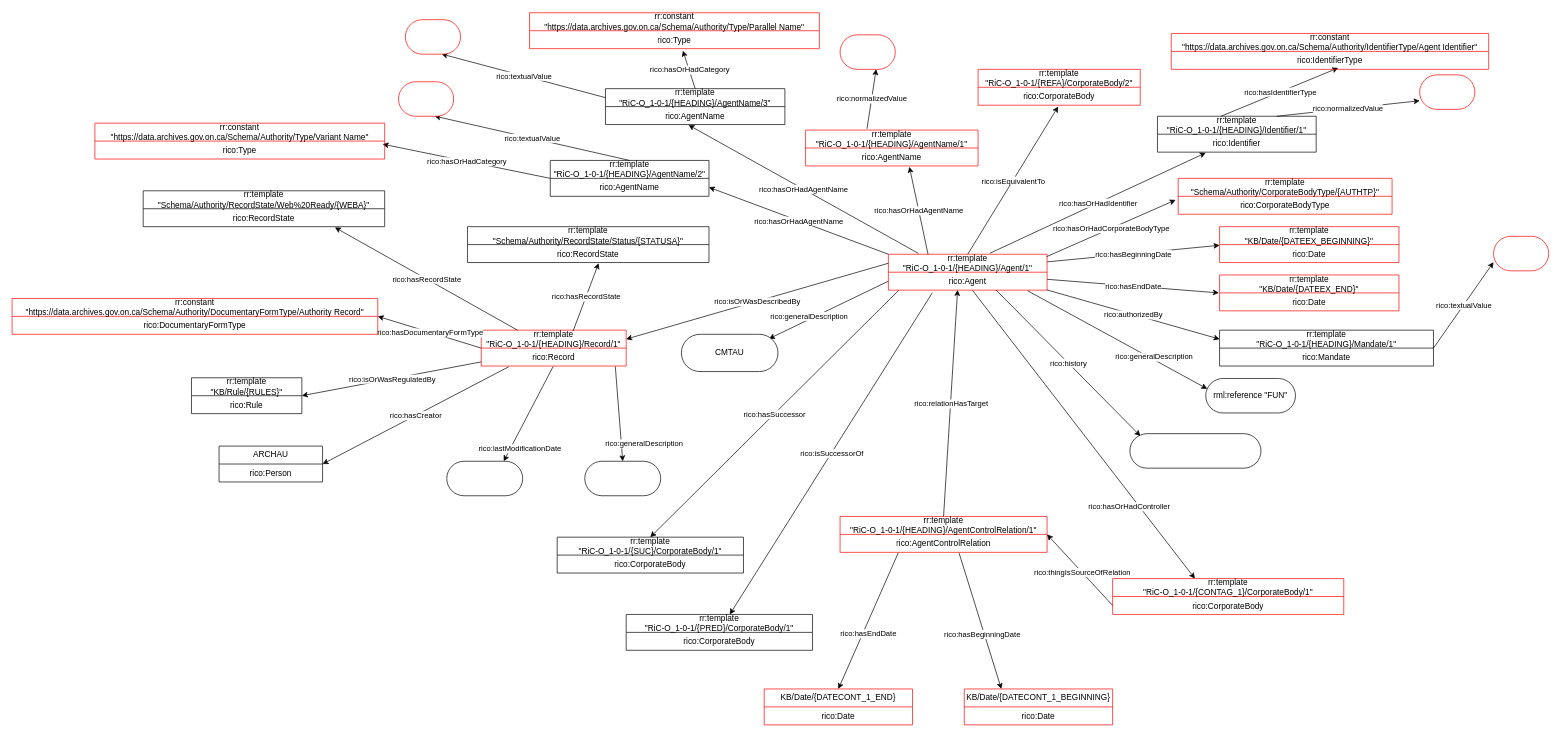
Some shapes in this 1561 by 739 pixel diagram are drawn without their labels. The shapes that lost their labels are listed below. From the top down, each one's centre as x and y in pixels, then its label:
point (433, 36): rml:reference "PAR"
point (867, 51): rml:reference "NAME"
point (426, 98): rml:reference "VAR"
point (1447, 91): rml:reference "REFA"
point (1521, 253): rml:reference "AA"
point (1195, 450): rml:reference " ADM "
point (484, 478): MOD_DATE
point (622, 478): rml:reference " SOURCE "
